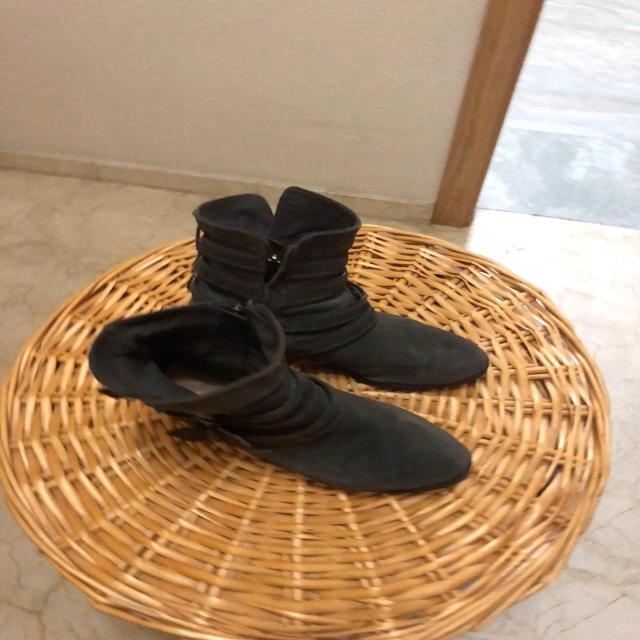shoe: (88, 302, 471, 495), (190, 188, 489, 393)
